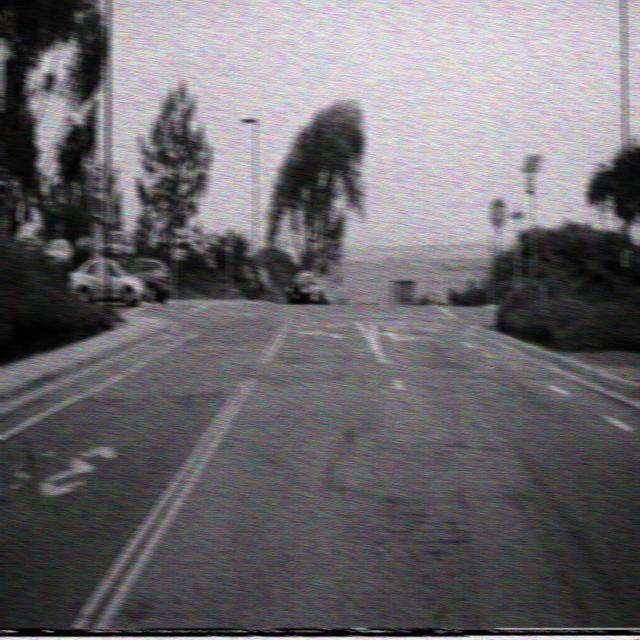stop: (488, 195, 508, 229)
